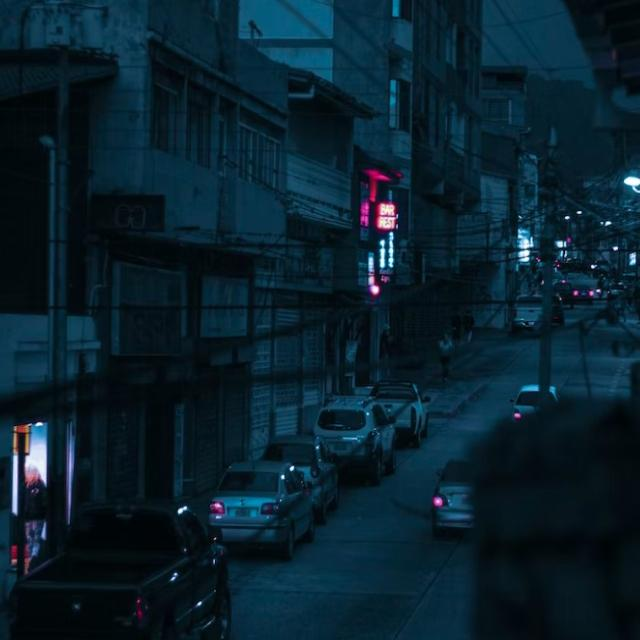car: (6, 497, 235, 640), (208, 458, 319, 562), (315, 394, 399, 487), (261, 434, 341, 522), (431, 452, 482, 537), (370, 378, 432, 447), (512, 289, 547, 335), (568, 284, 597, 310)
